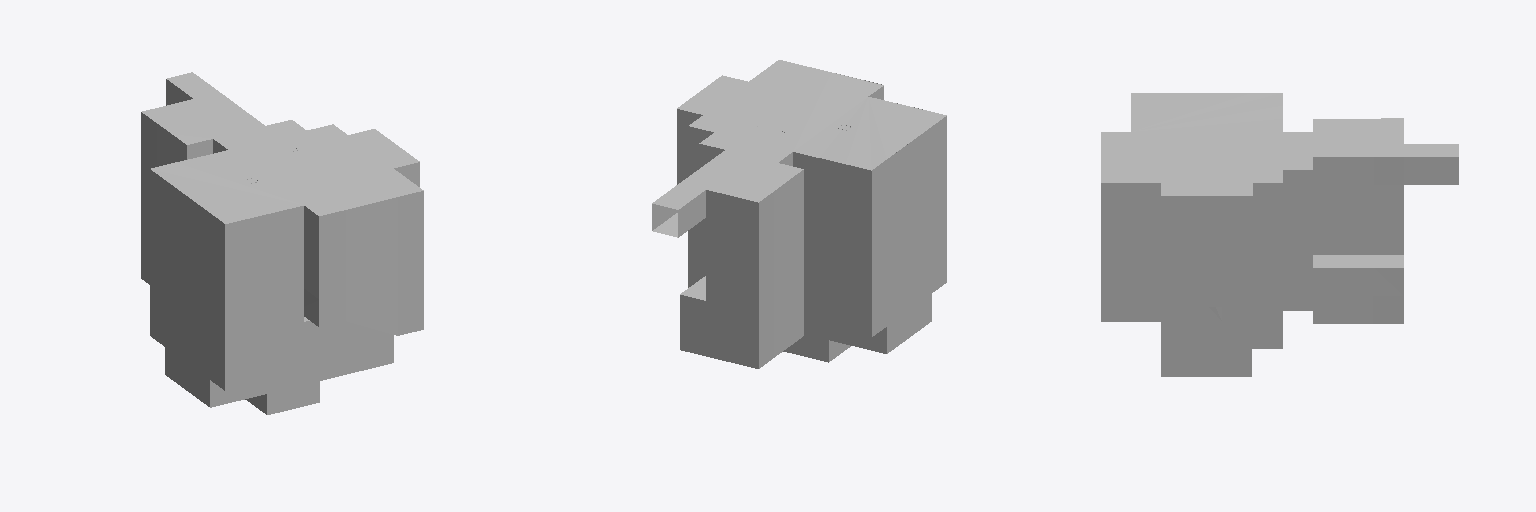
The model's file is tutorial_fix_19-04-20.obj.
3 views of the same model, side by side, from view 1: azimuth 30°, elevation 25°; view 2: azimuth 150°, elevation 25°; view 3: azimuth 270°, elevation 25° (orthographic).
Parts seen in each view (by area): view 1: Walls_Plane.001, Ceiling_Ceiling_Plane.002, Level_Plane, Island_Cube; view 2: Walls_Plane.001, Ceiling_Ceiling_Plane.002, Level_Plane, Island_Cube; view 3: Walls_Plane.001, Ceiling_Ceiling_Plane.002, Level_Plane.
Part boxes in pixels (x1,y1,x2,y2): Walls_Plane.001: (141, 79, 423, 406); Ceiling_Ceiling_Plane.002: (142, 72, 423, 223); Level_Plane: (210, 317, 393, 407); Island_Cube: (245, 381, 319, 414); Walls_Plane.001: (652, 80, 946, 368); Ceiling_Ceiling_Plane.002: (652, 60, 946, 209); Level_Plane: (653, 213, 886, 353); Island_Cube: (783, 334, 850, 362); Walls_Plane.001: (1101, 157, 1458, 323); Ceiling_Ceiling_Plane.002: (1101, 93, 1458, 195); Level_Plane: (1131, 281, 1312, 376).
Size of the model in its own units: 7.91 by 8.06 by 11.7.